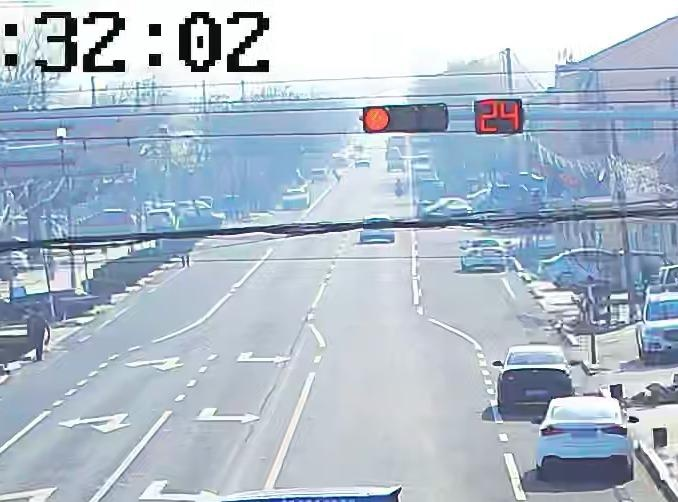red: (360, 105, 391, 136)
redtime: (479, 98, 518, 137)
